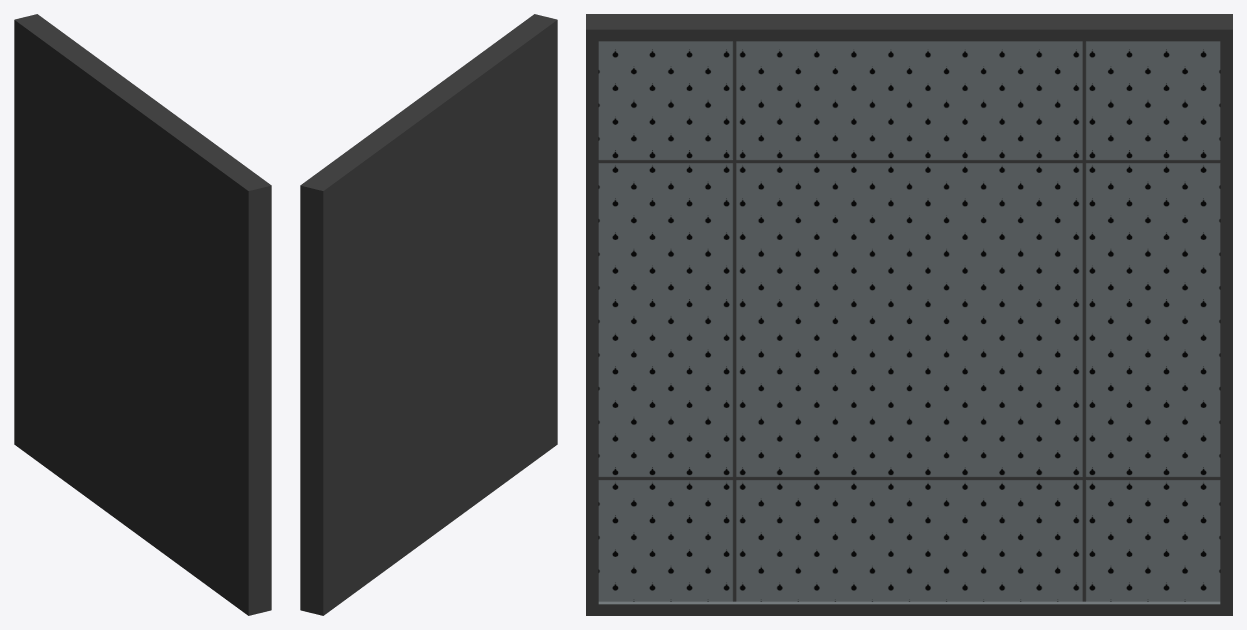
The model's file is weapon_wall.glb.
The picture shows the model from 3 angles, left to right: view 1: azimuth 30°, elevation 25°; view 2: azimuth 150°, elevation 25°; view 3: azimuth 270°, elevation 25°; orthographic projection. The views are drawn at different scales.
Visible parts, largest first — view 1: Cube; view 2: Cube; view 3: Cube.
Boxes of the visible parts, x1,y1,x2,y2 form: Cube: [14, 14, 271, 615]; Cube: [300, 14, 557, 615]; Cube: [586, 14, 1232, 615].
Bounding box in the file's own units: 0.1143 × 2 × 2.
2 materials, 1 textured.
